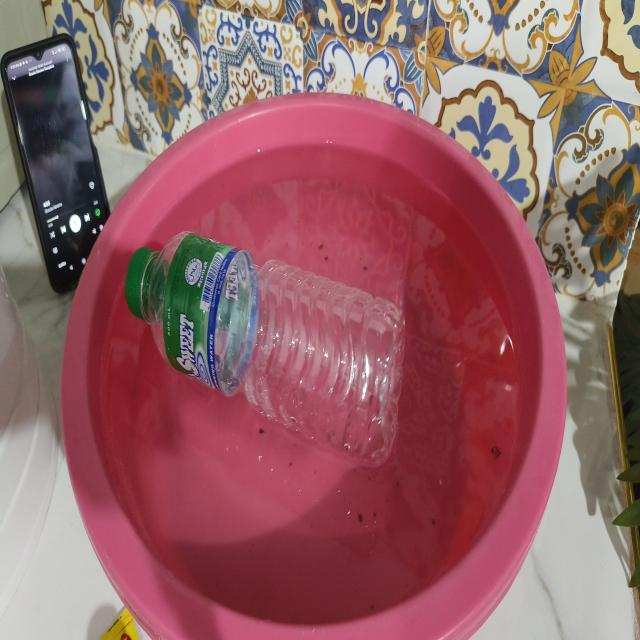Plastic Bottle: (125, 232, 405, 465)
